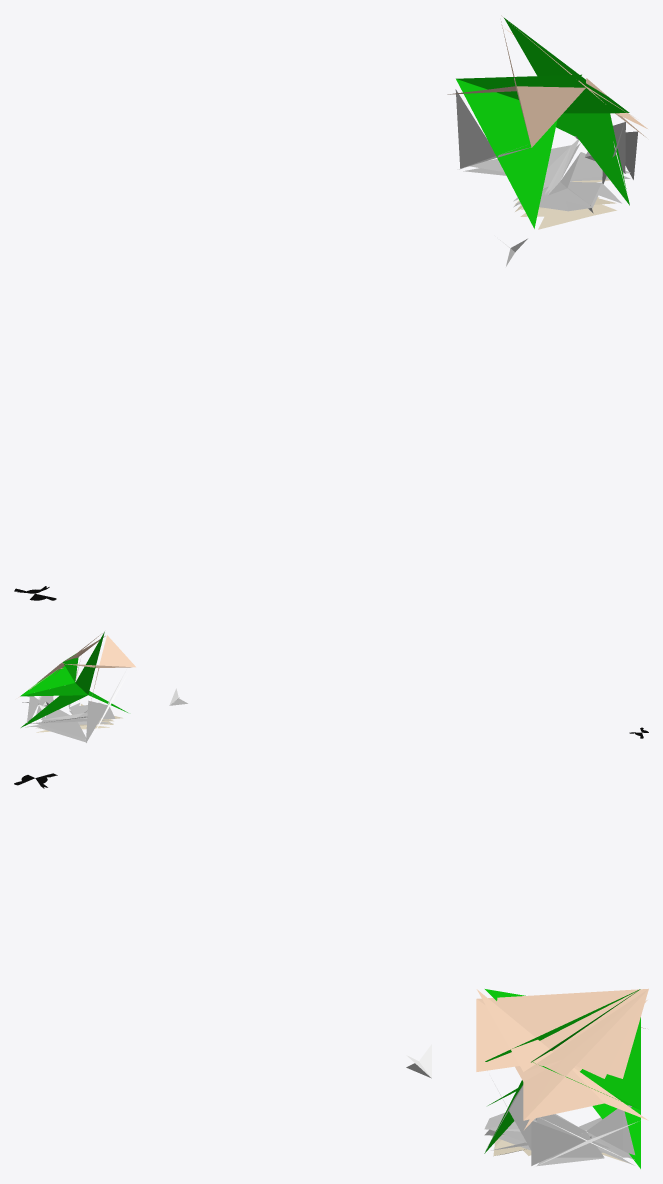
The model's file is sample-model-converted.glb.
3 views of the same model, one above another, from view 1: azimuth 30°, elevation 25°; view 2: azimuth 150°, elevation 25°; view 3: azimuth 270°, elevation 25° (orthographic). The views are drawn at different scales.
Size of the model in its own units: 38.3 by 7 by 24.29.
